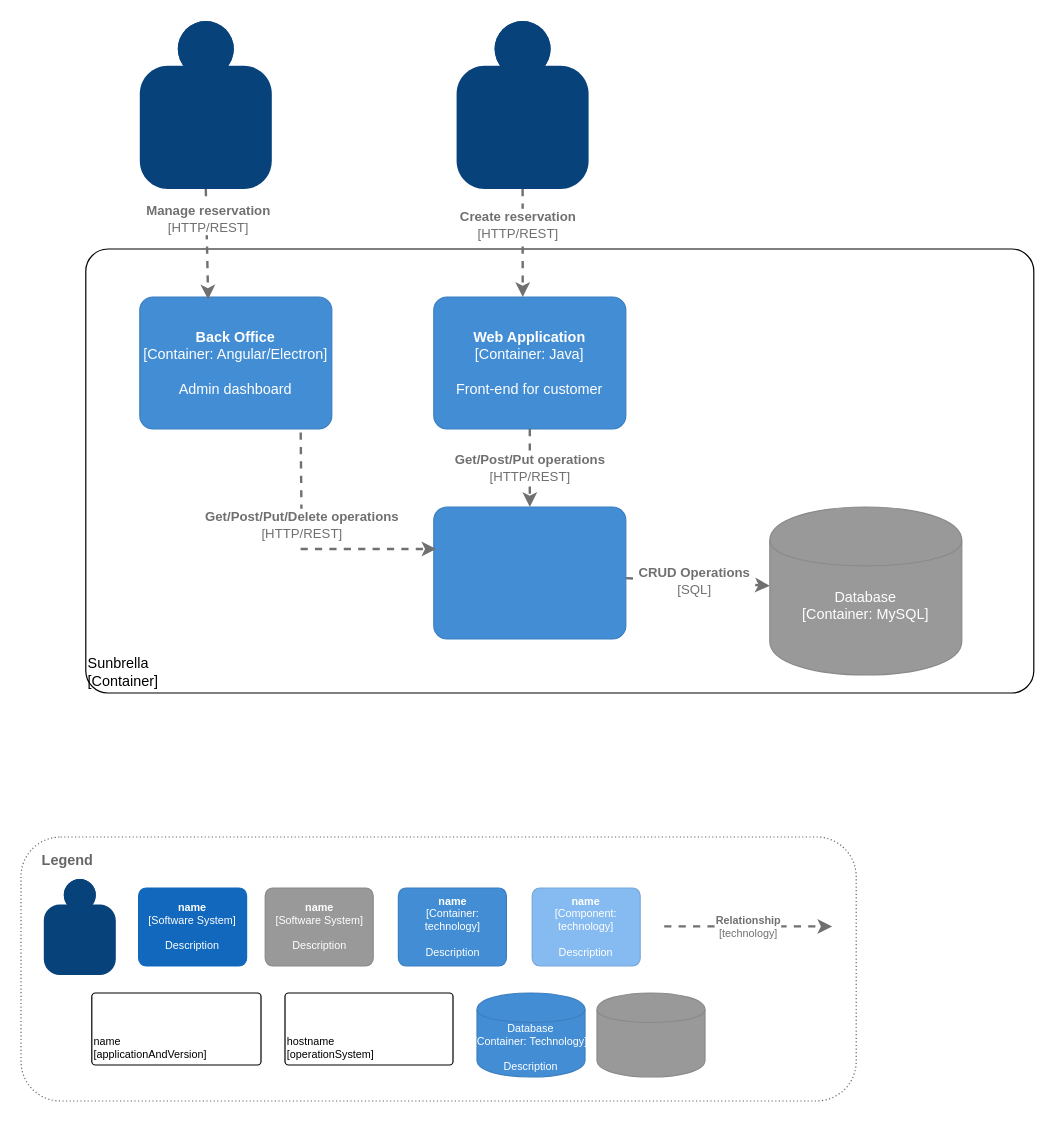
Some shapes in this 1055 by 1122 pixel diagram are drawn without their labels. Here are the shapes that lost their labels. From the top down, the centre of each, then its label:
point 205,104: Admin [Person] Manage reservation
point 522,104: Customer [Person] Make reservation
point 529,572: API Service [Container: Java]
point 79,926: name [Person] Description
point 650,1034: Database [Container: Technology] External
